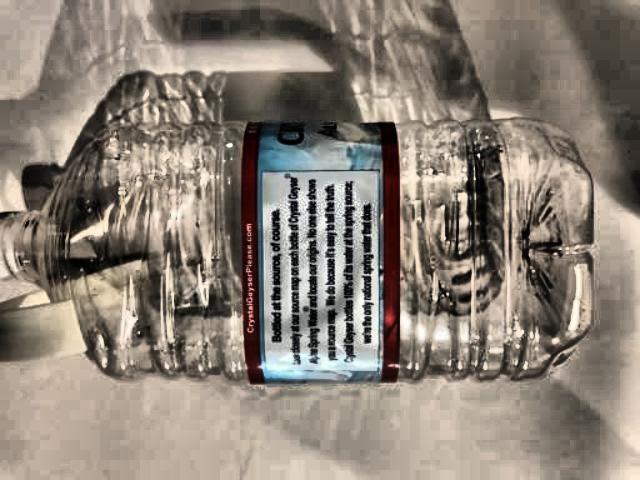Bottles: (0, 107, 605, 400)
